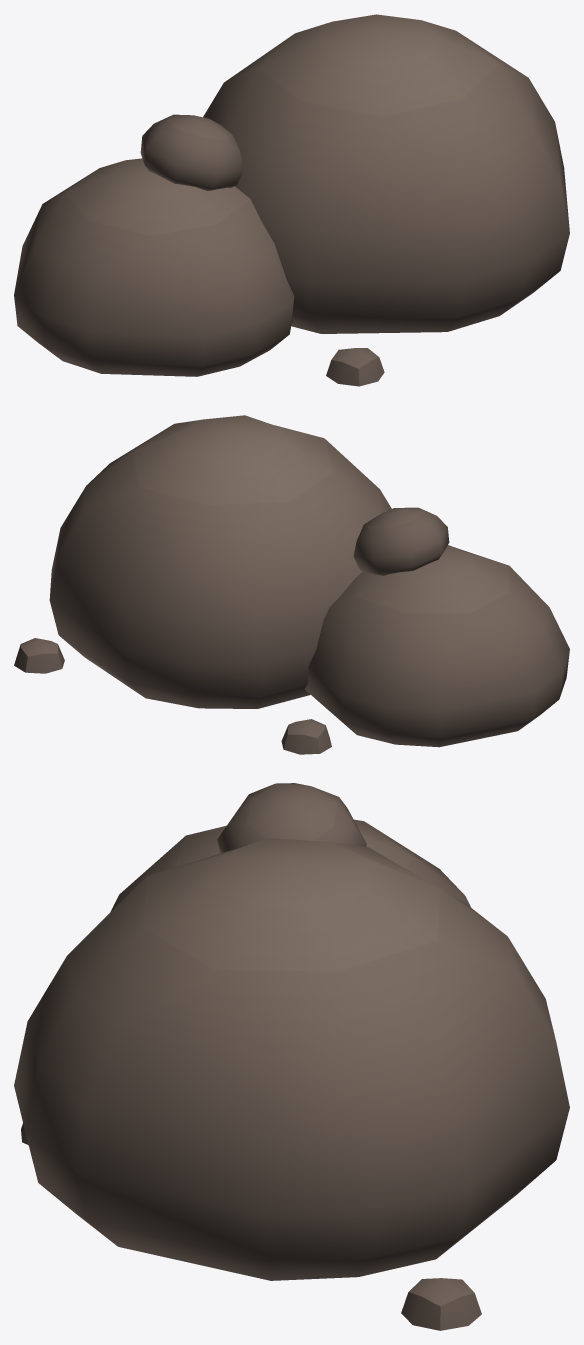
File: Rock_5_E_Color6.fbx
The picture shows the model from 3 angles, top to bottom: view 1: azimuth 30°, elevation 25°; view 2: azimuth 150°, elevation 25°; view 3: azimuth 270°, elevation 25°; orthographic projection. The views are drawn at different scales.
Visible parts, largest first — view 1: Rock_5_E_Color6; view 2: Rock_5_E_Color6; view 3: Rock_5_E_Color6.
Part boxes in pixels (left/top/right/bottom): Rock_5_E_Color6: left=14, top=14, right=569, bottom=386; Rock_5_E_Color6: left=14, top=415, right=569, bottom=754; Rock_5_E_Color6: left=14, top=783, right=569, bottom=1330.
Bounding box in the file's own units: 2.03 × 0.9247 × 1.34.
